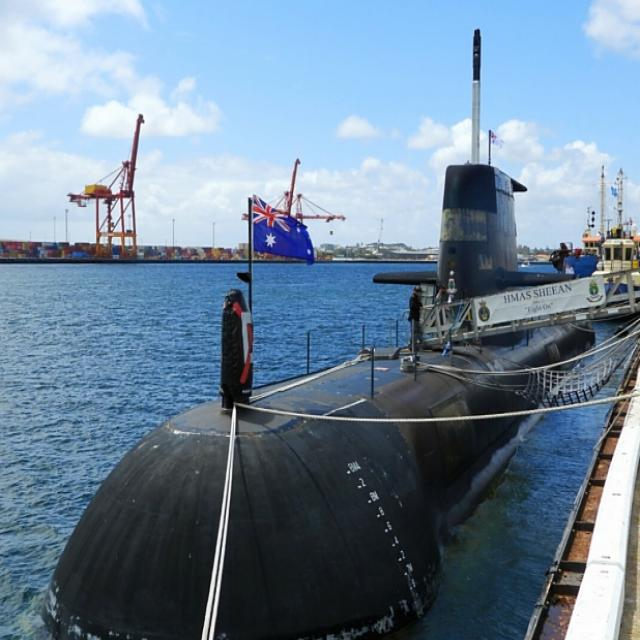submarine: (38, 31, 579, 640)
